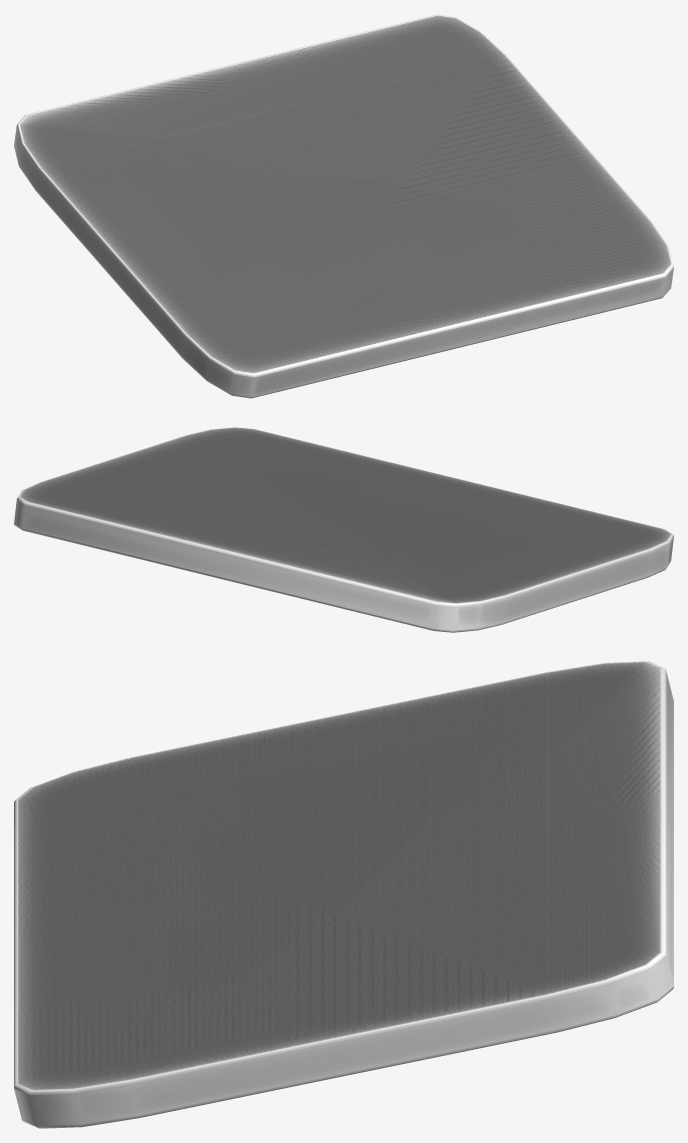
Rendered from TableThingy.fbx.
3 renders of one model, top to bottom at view 1: azimuth 30°, elevation 25°; view 2: azimuth 150°, elevation 25°; view 3: azimuth 270°, elevation 25°, orthographic. The views are drawn at different scales.
Visible parts, largest first — view 1: Cube.016; view 2: Cube.016; view 3: Cube.016.
Part boxes in pixels (box(x1,y1,x2,y2)): Cube.016: box(14, 14, 673, 398); Cube.016: box(14, 427, 673, 632); Cube.016: box(14, 661, 673, 1128).
Bounding box in the file's own units: 0.7653 × 0.1872 × 0.6589.
